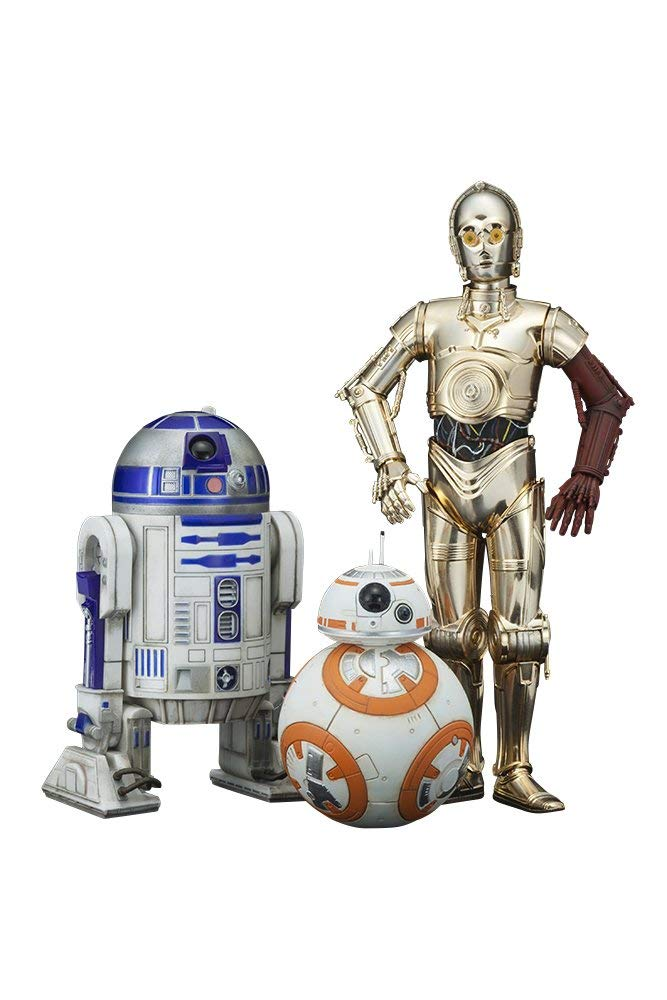r2d2: (41, 408, 306, 819)
